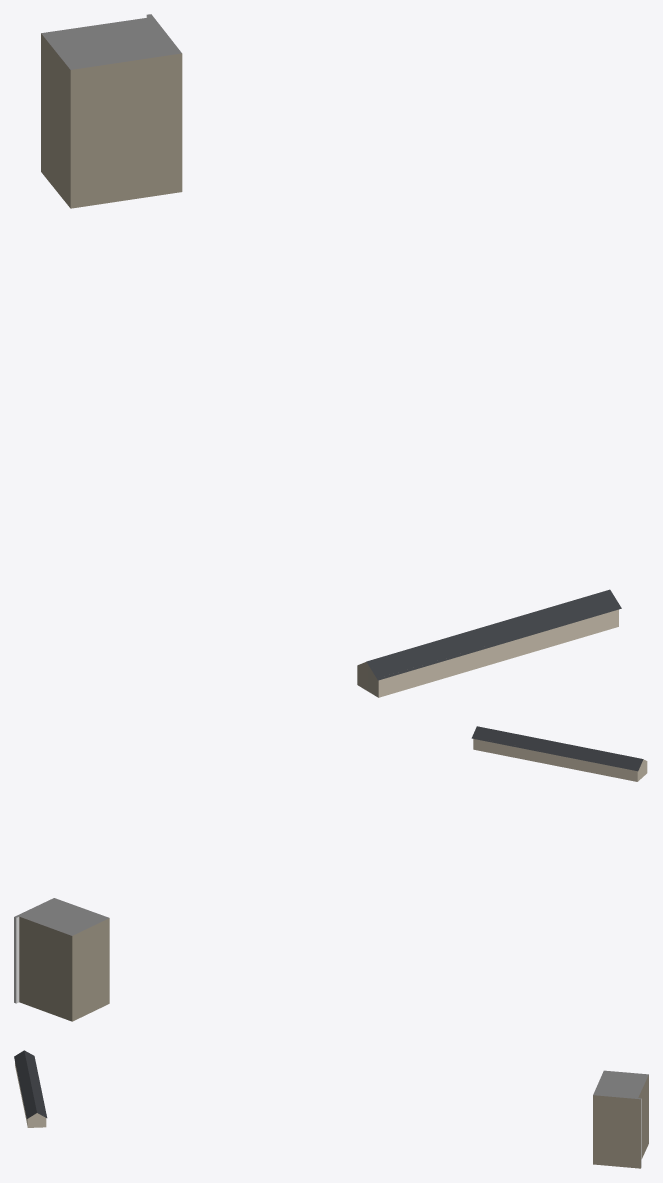
3 renders of one model, top to bottom at view 1: azimuth 30°, elevation 25°; view 2: azimuth 150°, elevation 25°; view 3: azimuth 270°, elevation 25°, orthographic. The views are drawn at different scales.
Parts seen in each view (by area): view 1: tuile; view 2: tuile; view 3: tuile.
Part boxes in pixels (x1,y1,x2,y2): tuile: [41, 14, 621, 697]; tuile: [14, 726, 647, 1021]; tuile: [14, 1050, 648, 1168].
Size of the model in its own units: 75.28 by 24.73 by 205.
